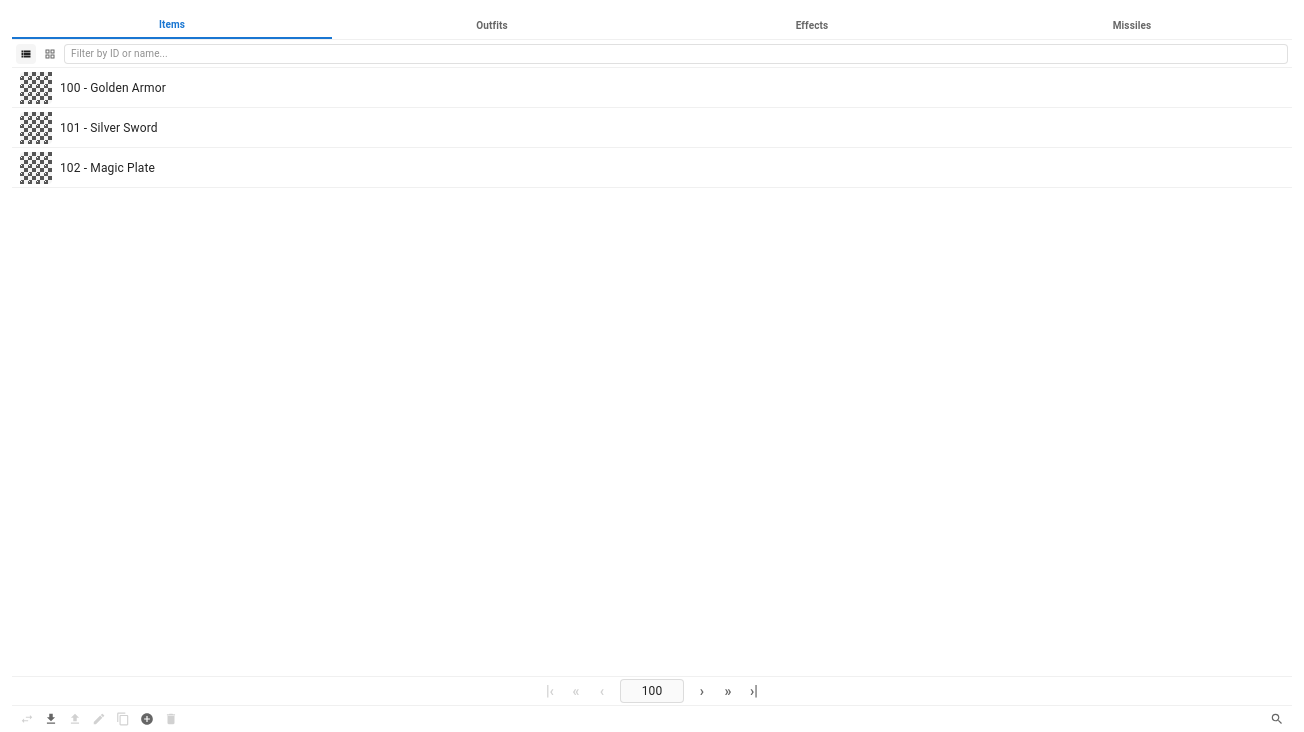
Test: ThingListPanel › search and filter › filters by market name
Type "golden" into the field with test id "thing-search-input" at [676, 54], box [64,44,1288,64]
Wait 200 ms
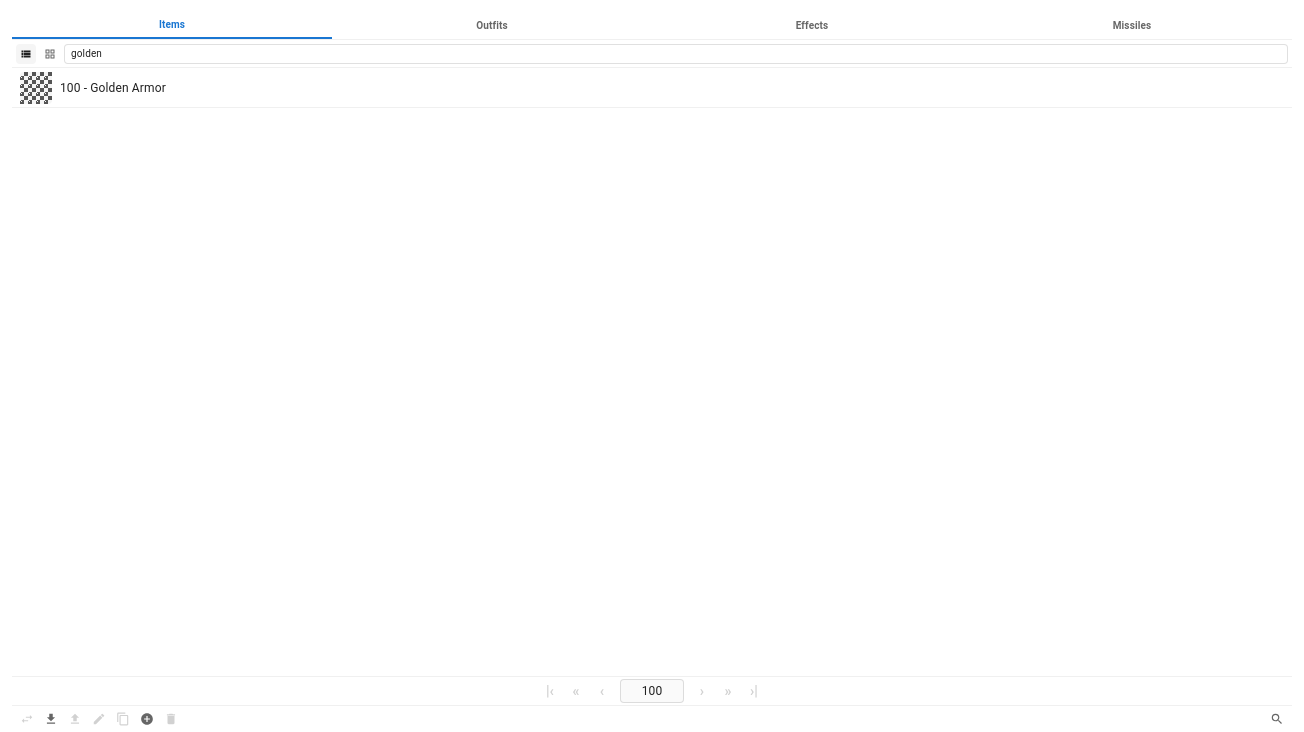
Expected: the element with test id "thing-list-item-100" is shown, [12,68,1292,108]
Now the element with test id "thing-list-item-101" is gone
